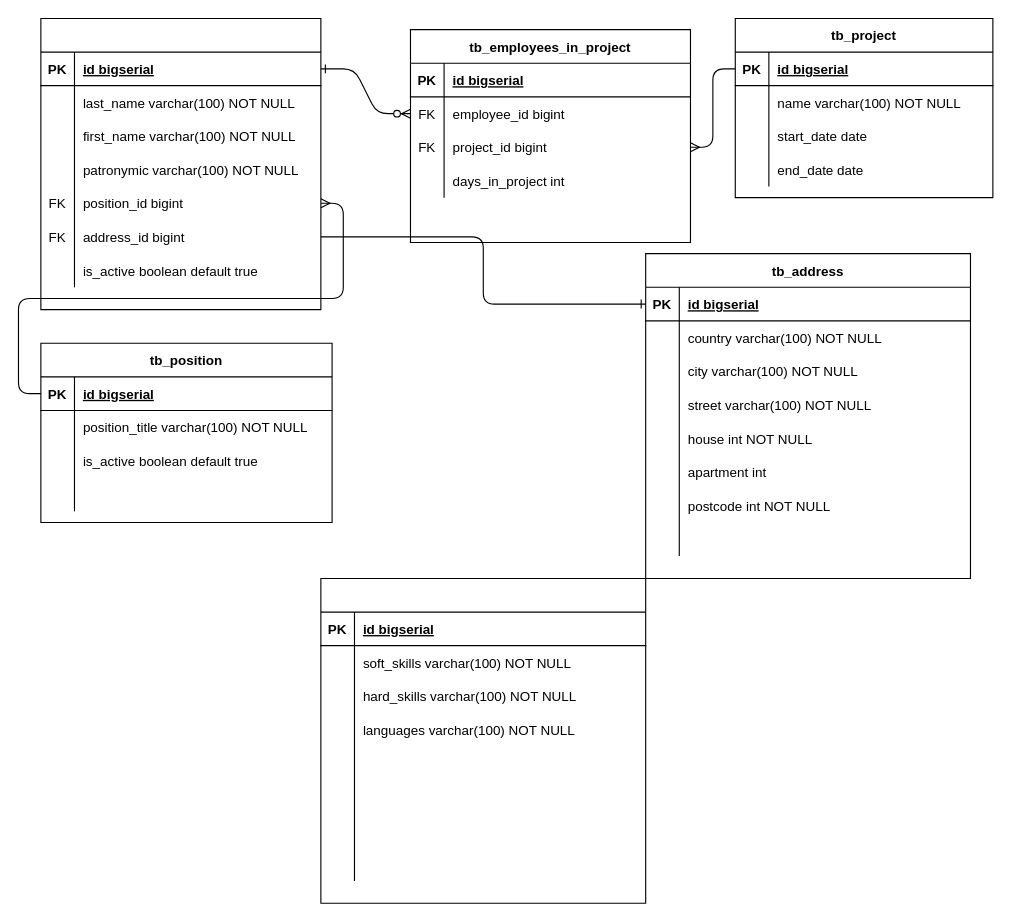
The diagram is 1011 pixels wide and 922 high, and some of its shapes have lost their labels. The shapes that lost their labels are listed below. From the top down, each one's box as (x1, y1, x2, y2) in pixels, then its label:
(40, 17, 321, 310): tb_employee
(320, 577, 646, 903): tb_characteristics
